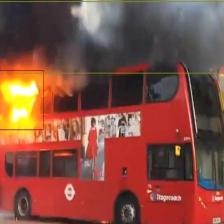fire: (0, 70, 43, 130)
smoke: (0, 1, 224, 74)
